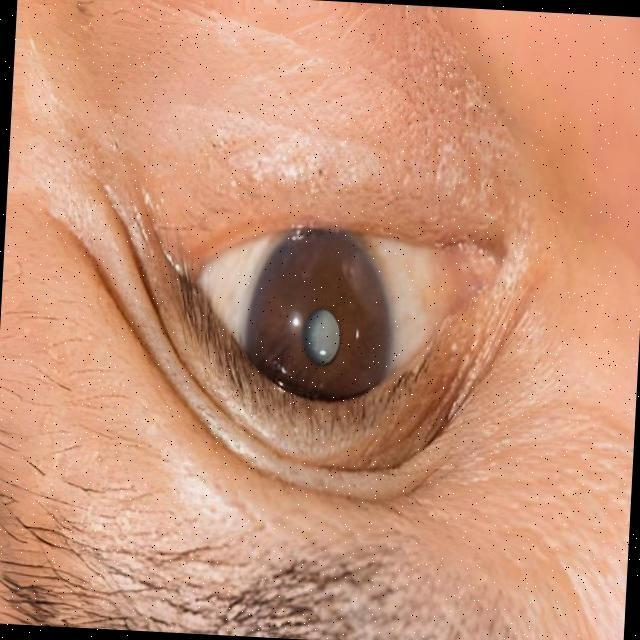Cataract: (231, 220, 408, 430)
